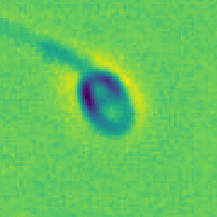normal: (1, 12, 124, 70)
